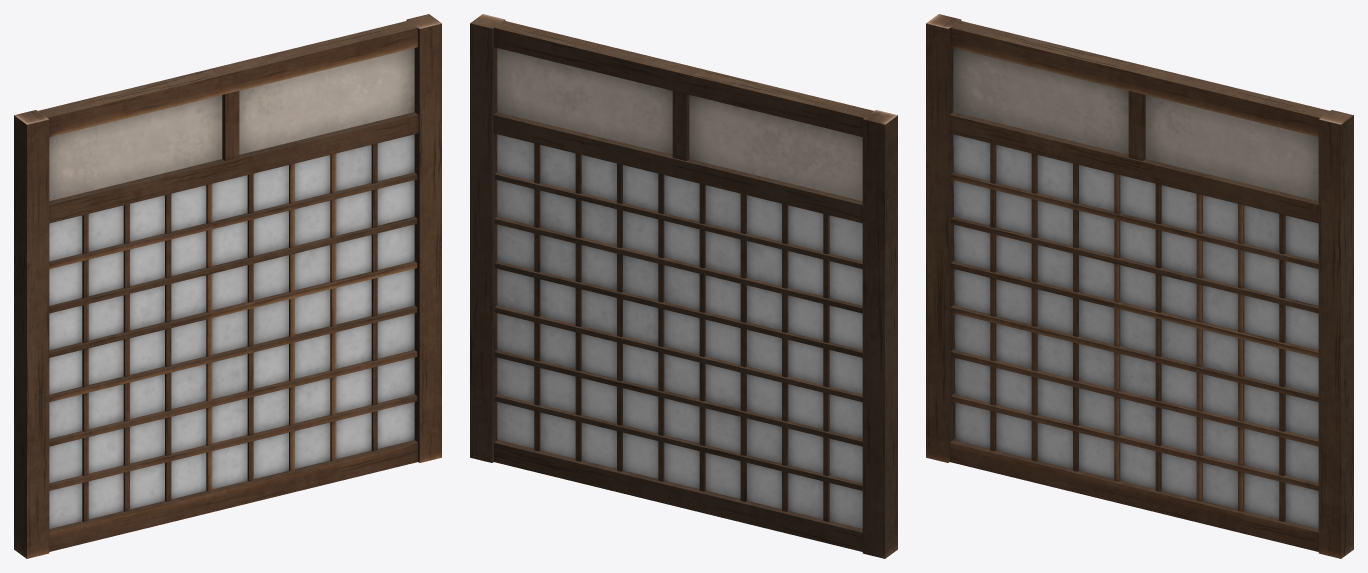
Rendered from Wall_D.fbx.
3 views of the same model, side by side, from view 1: azimuth 30°, elevation 25°; view 2: azimuth 150°, elevation 25°; view 3: azimuth 330°, elevation 25° (orthographic).
Visible parts, largest first — view 1: Wall_D; view 2: Wall_D; view 3: Wall_D.
Part boxes in pixels (x1=…): Wall_D: x1=14, y1=14, x2=441, y2=558; Wall_D: x1=470, y1=14, x2=897, y2=558; Wall_D: x1=926, y1=14, x2=1353, y2=558.
Bounding box in the file's own units: 400 × 400 × 21.45.
